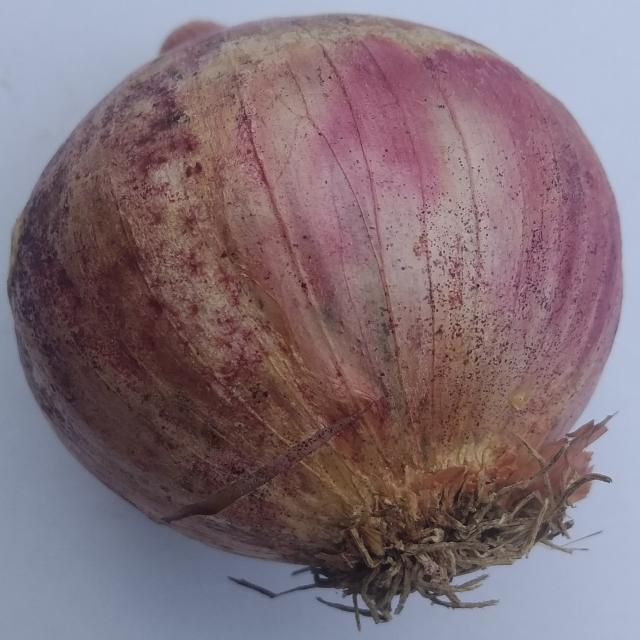onion: (5, 13, 625, 631)
